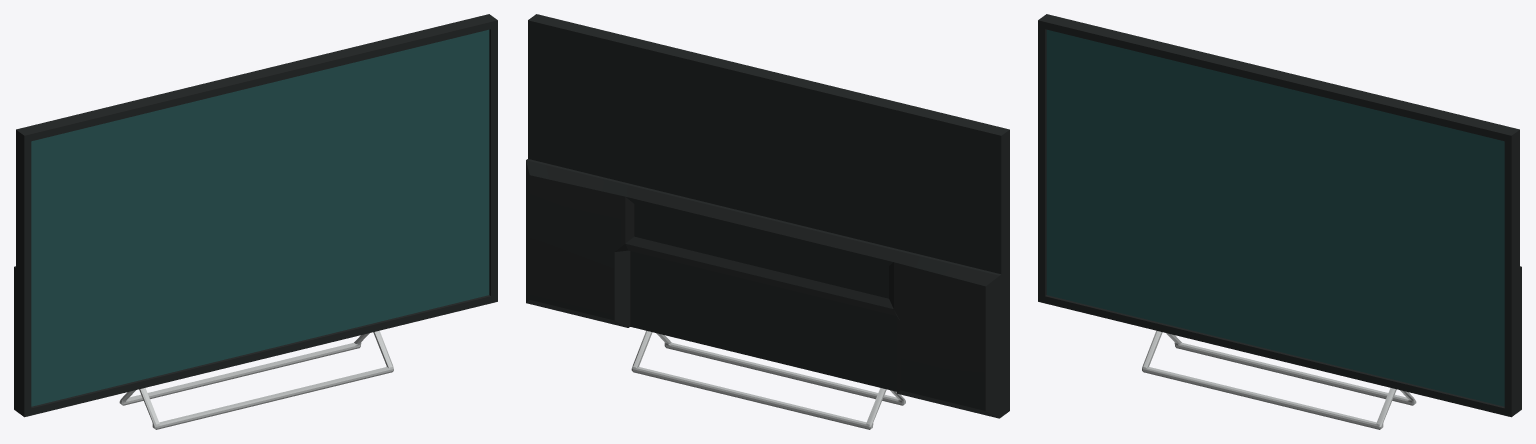
The picture shows the model from 3 angles, left to right: view 1: azimuth 30°, elevation 25°; view 2: azimuth 150°, elevation 25°; view 3: azimuth 330°, elevation 25°; orthographic projection.
Parts seen in each view (by area): view 1: Screen, Box001, Box002, Box003; view 2: Box001, Box003, Box002; view 3: Screen, Box001, Box002, Box003.
Boxes of the visible parts, x1,y1,x2,y2 form: Screen: (31,29,489,406); Box001: (14,14,497,417); Box002: (139,330,393,429); Box003: (119,333,369,405); Box001: (526,14,1009,418); Box003: (631,330,886,429); Box002: (656,333,905,405); Screen: (1046,29,1504,406); Box001: (1038,14,1521,417); Box002: (1142,330,1396,429); Box003: (1166,333,1416,405).
Bounding box in the file's own units: 118 × 74.49 × 15.37.
4 materials, 4 textured.
